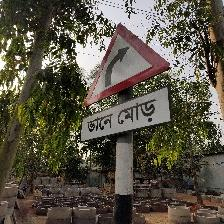Right-turn: (80, 21, 174, 146)
